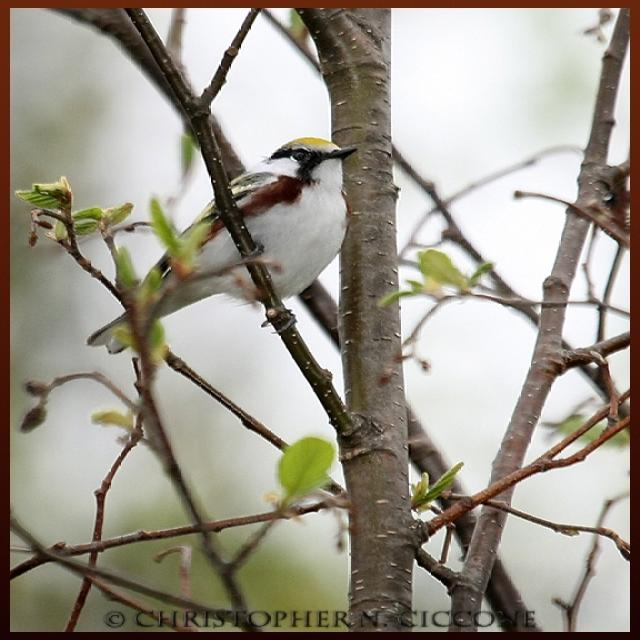bird: (85, 135, 357, 358)
